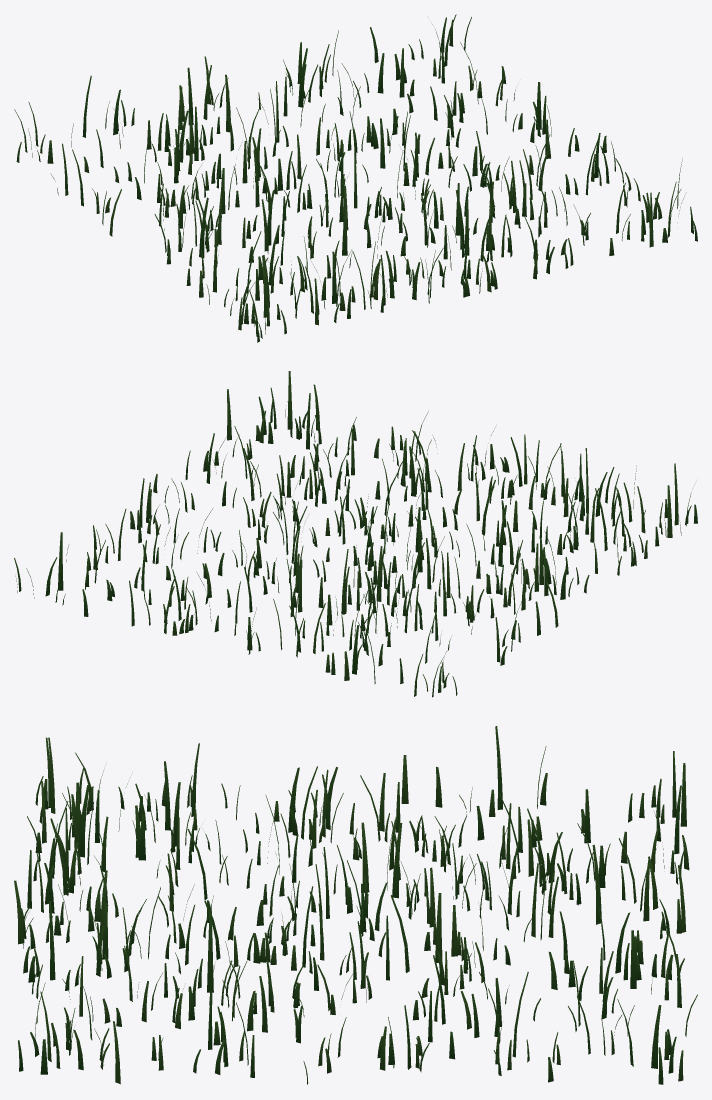
Rendered from Turf_Shade_v4.glb.
3 views of the same model, one above another, from view 1: azimuth 30°, elevation 25°; view 2: azimuth 150°, elevation 25°; view 3: azimuth 270°, elevation 25° (orthographic). The views are drawn at different scales.
Parts seen in each view (by area): view 1: Turf_Shade_v4; view 2: Turf_Shade_v4; view 3: Turf_Shade_v4.
Boxes of the visible parts, left/top/right/bottom form: Turf_Shade_v4: left=14, top=14, right=697, bottom=342; Turf_Shade_v4: left=14, top=371, right=697, bottom=697; Turf_Shade_v4: left=14, top=726, right=697, bottom=1084.
Size of the model in its own units: 1.25 by 0.1577 by 1.25.
